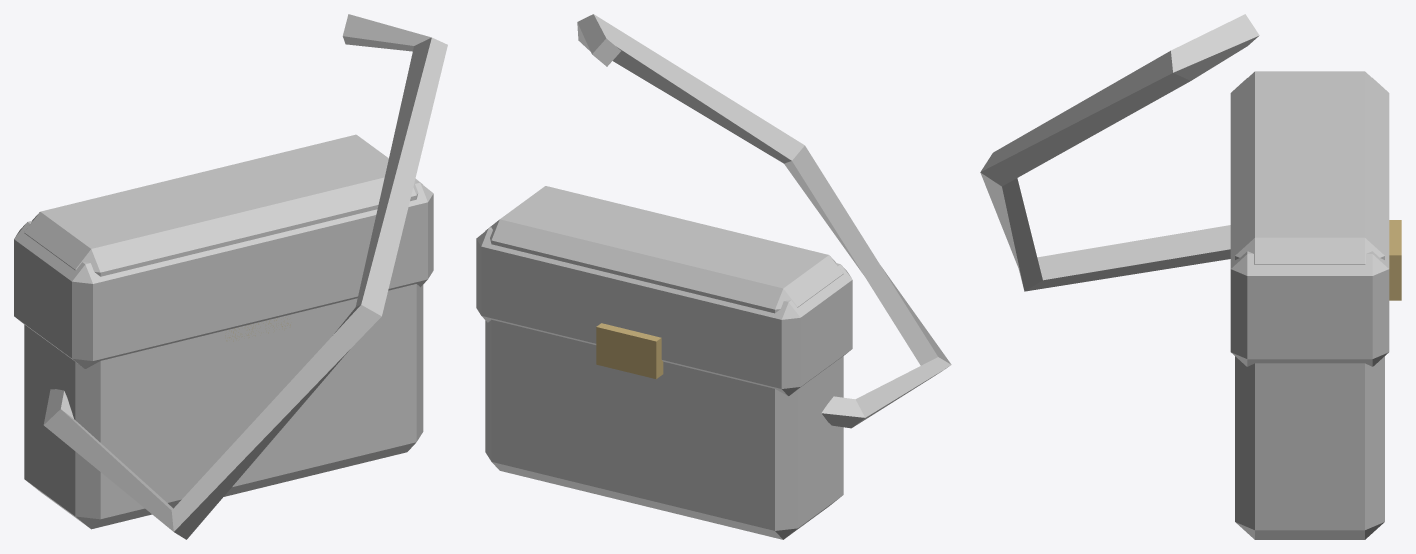
The model's file is acc_bag_satchel_v01.glb.
3 renders of one model, left to right at view 1: azimuth 30°, elevation 25°; view 2: azimuth 150°, elevation 25°; view 3: azimuth 270°, elevation 25°, orthographic. The views are drawn at different scales.
Visible parts, largest first — view 1: acc_bag_satchel; view 2: acc_bag_satchel; view 3: acc_bag_satchel.
Part boxes in pixels (x1,y1,x2,y2): acc_bag_satchel: [14, 14, 447, 539]; acc_bag_satchel: [476, 14, 951, 539]; acc_bag_satchel: [980, 14, 1401, 539].
Size of the model in its own units: 0.2859 by 0.326 by 0.2527.
